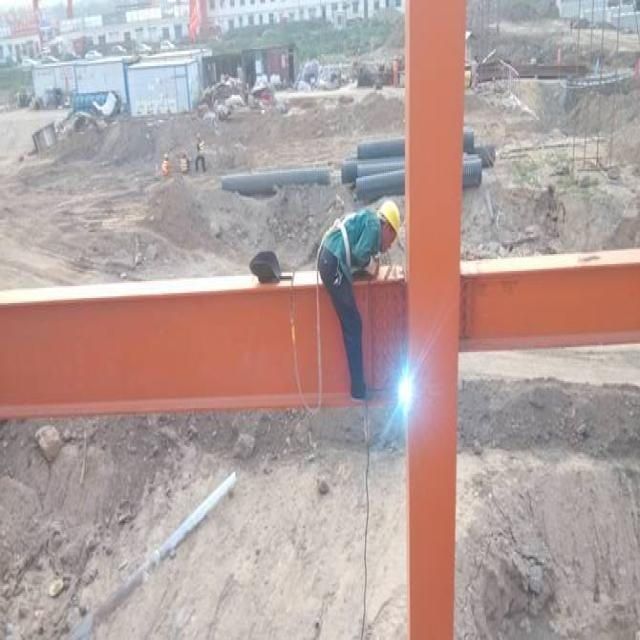Arnes_seguridad: (320, 205, 378, 276)
